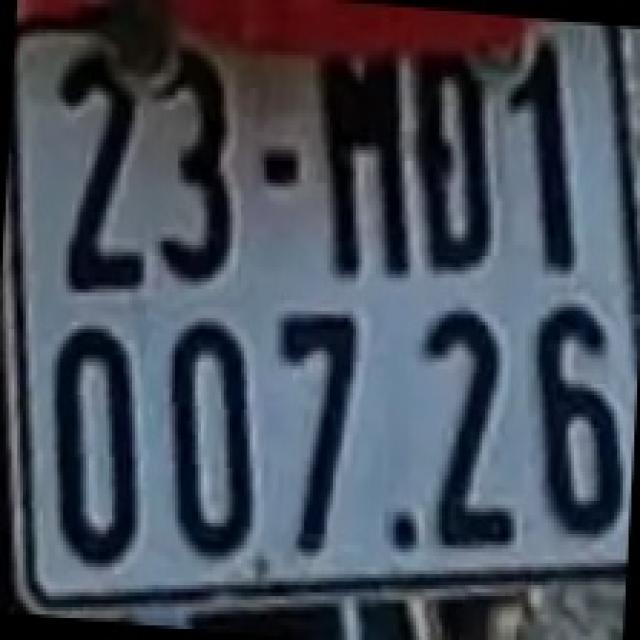0: (51, 322, 140, 567), (170, 314, 256, 560)
1: (508, 36, 585, 270)
2: (419, 300, 519, 548), (58, 44, 150, 292)
3: (152, 44, 235, 285)
6: (534, 300, 626, 534)
7: (276, 307, 362, 556)
D: (413, 48, 494, 270)
M: (316, 46, 419, 283)
